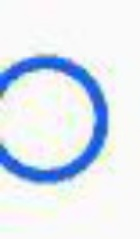RadioButton: (1, 1, 139, 238)
